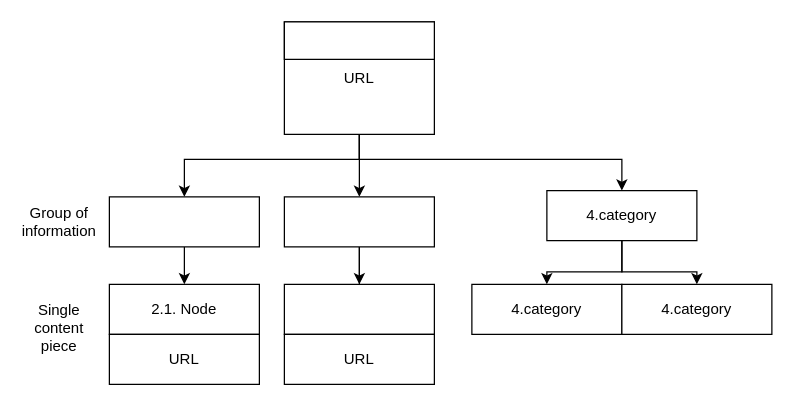
The diagram is 794 pixels wide and 406 high, and some of its shapes have lost their labels. Each missing label, with the centre of its shape:
"1. Homepage" goes at (x=358, y=40).
"2. category" goes at (x=183, y=221).
"3. 1. Node" goes at (x=358, y=308).
"3. category" goes at (x=358, y=221).
